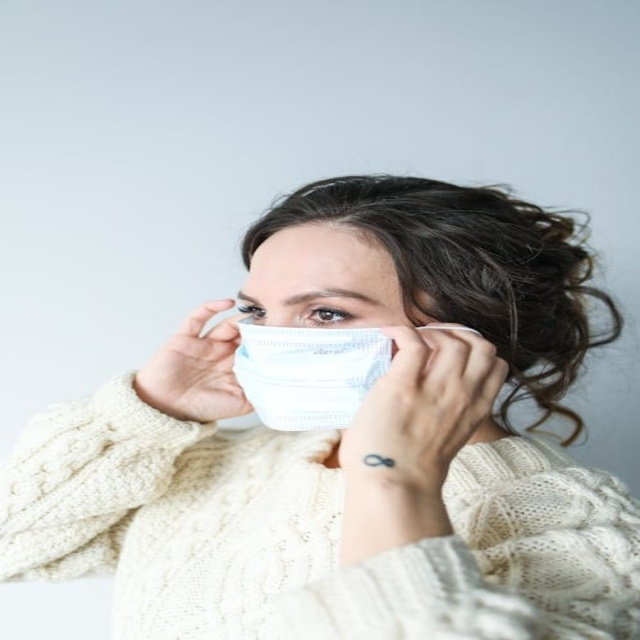Mascara: (230, 318, 412, 430)
Sin_gafas: (307, 307, 353, 324), (237, 303, 266, 317)
Sin_guantes: (341, 320, 511, 474), (128, 300, 239, 423)
